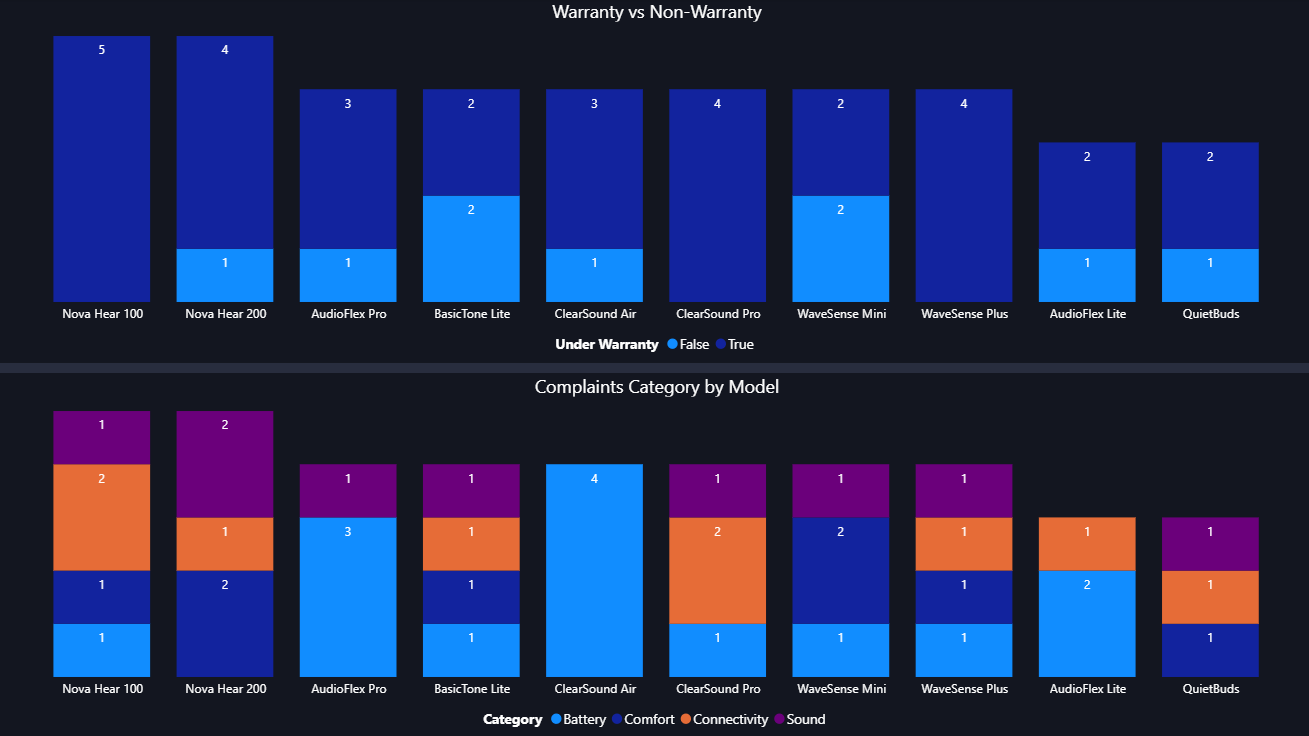

Layout of this report page (visuals, bound fields, positions):
{"tool":"powerbi","page":{"name":"Warranty/Category","canvas":[1280,720],"ordinal":1},"visuals":[{"type":"columnChart","title":"Warranty vs Non-Warranty","fields":{"Category":["Devices.ModelName"],"Series":["Complaints.UnderWarranty"],"Y":["Complaints.Total Complaints"]},"box":[0,0,1280,355],"z":0},{"type":"columnChart","title":"Complaints Category by Model","fields":{"Series":["Complaints.Category"],"Category":["Devices.ModelName"],"Y":["Complaints.Total Complaints"]},"box":[0,365,1280,355],"z":1}]}

Visuals, with their boxes in screenshot pixels (x1, y1, x2, y2), scaled from the page's 1280x720 canvas onto the 1309x736 screenshot:
"Warranty vs Non-Warranty" columnChart: (0, 0, 1308, 363)
"Complaints Category by Model" columnChart: (0, 373, 1308, 735)
